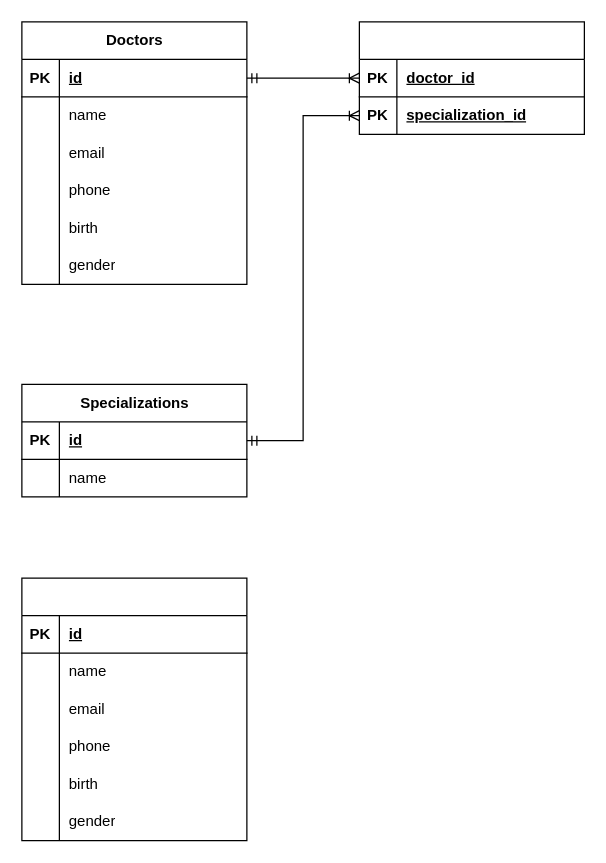
Image size: 606x863. Some labels were removed from this diagram. The shapes that lost their labels are listed below. From the top down, each one's box as (x1, y1, x2, y2) in pixels, then its label:
(358, 21, 584, 134): Doctor_specializations
(21, 577, 247, 841): Patients
